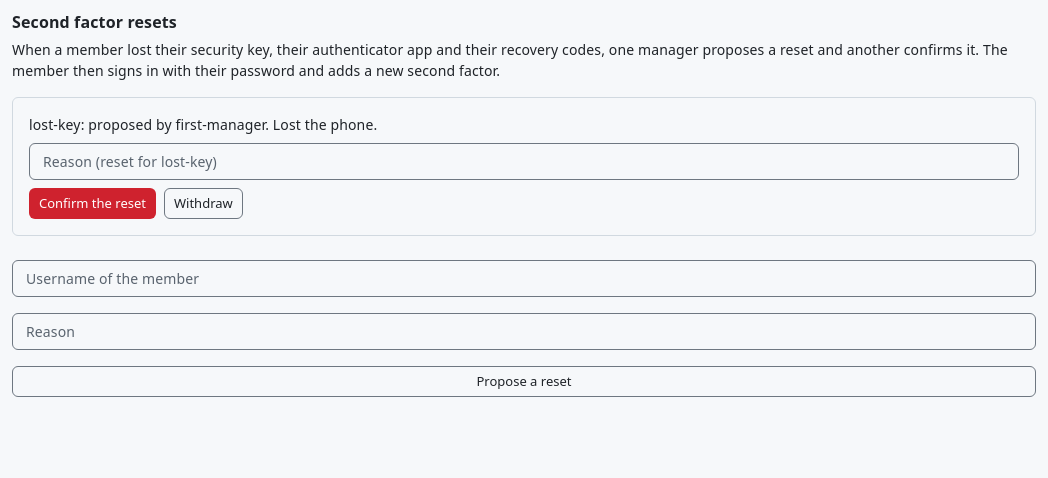
Test: FactorResets › lets another manager confirm, with a reason
The width and height of the screenshot is (1048, 478).
Expected: the element "reset for lost-key" shows "proposed by first-manager. Lost the phone.", [12,97,1036,236]
Type "Checked in person." into the field labelled "Reason (reset for lost-key)" at (524, 162), box [29,143,1019,180]
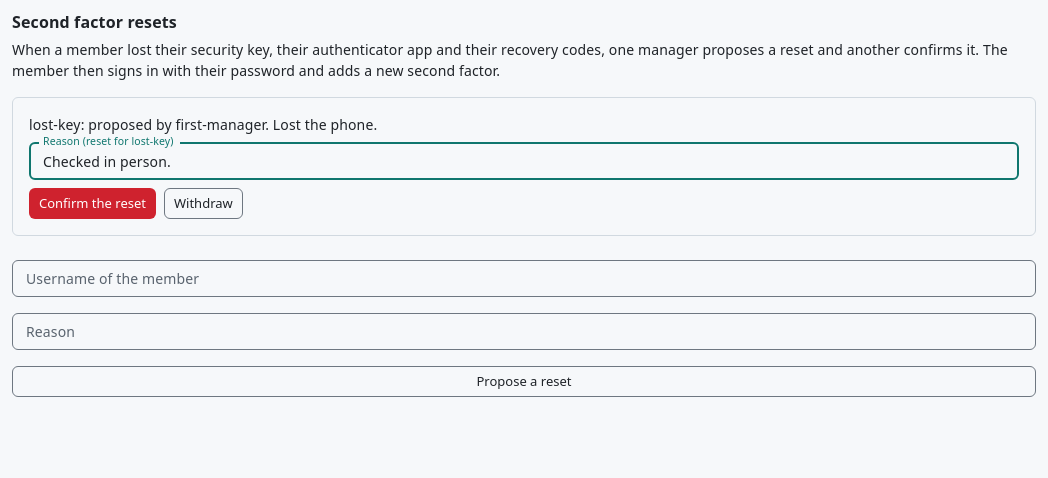
Click the button "Confirm the reset" at (92, 204), box [29,188,156,219]
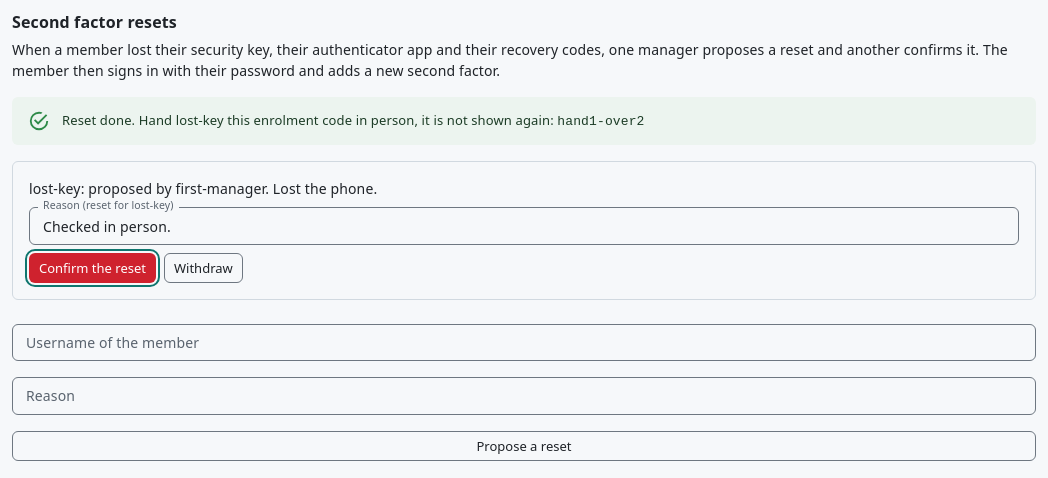
Result: the message shows "Hand lost-key this enrolment code in person, it is not shown again: hand1-over2" at [12,97,1036,146]
